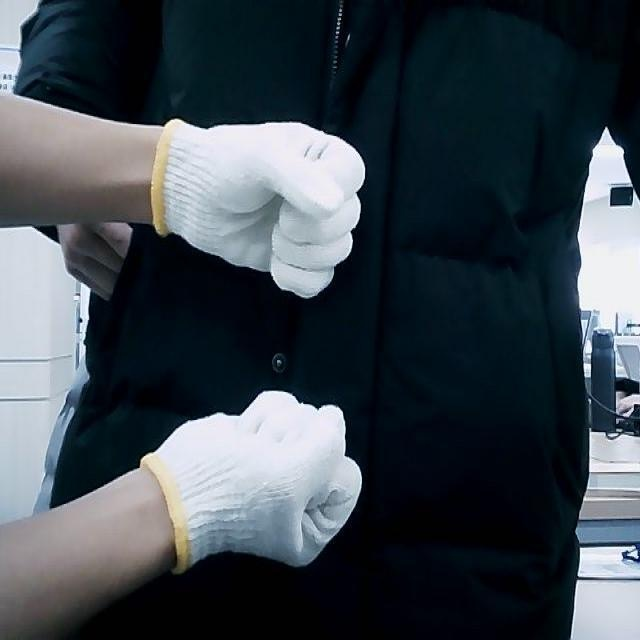Guantes: (140, 387, 364, 571), (150, 116, 366, 299)
